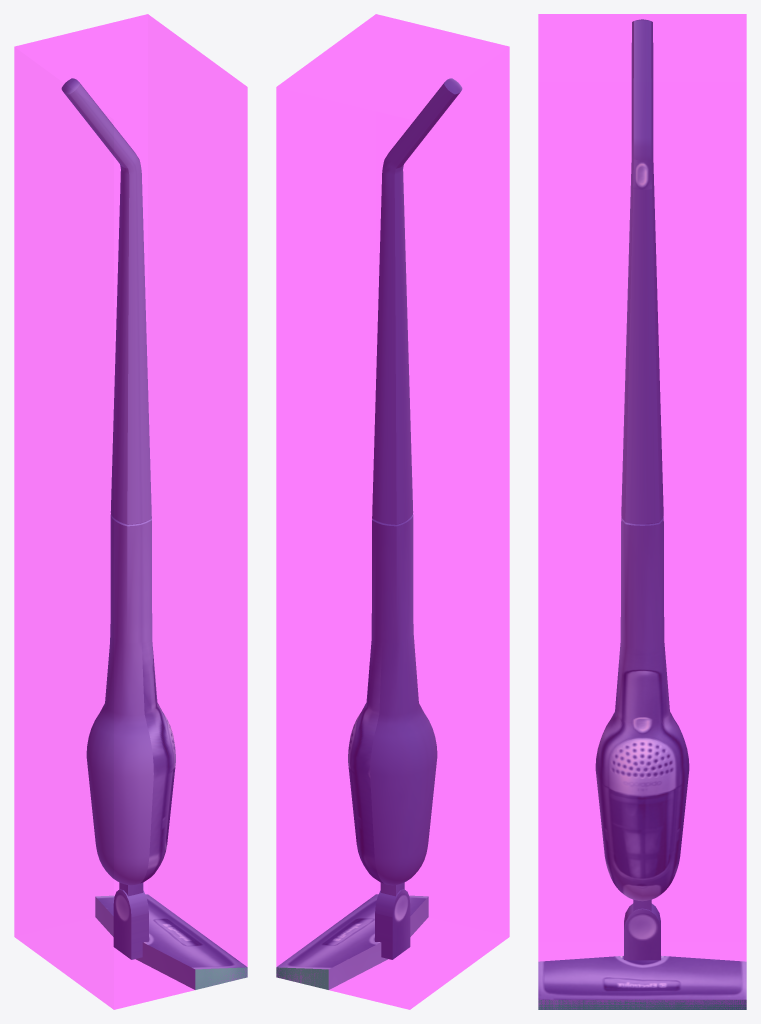
File: cleaner.fbx
The picture shows the model from 3 angles, left to right: view 1: azimuth 30°, elevation 25°; view 2: azimuth 150°, elevation 25°; view 3: azimuth 270°, elevation 25°; orthographic projection. The views are drawn at different scales.
Visible parts, largest first — view 1: boundingbox, vacume_cleaner; view 2: boundingbox, vacume_cleaner; view 3: boundingbox, vacume_cleaner.
Part boxes in pixels (left/top/right/bottom): boundingbox: left=14, top=14, right=247, bottom=1009; vacume_cleaner: left=61, top=78, right=247, bottom=989; boundingbox: left=276, top=14, right=509, bottom=1009; vacume_cleaner: left=276, top=78, right=462, bottom=989; boundingbox: left=538, top=14, right=746, bottom=1008; vacume_cleaner: left=538, top=19, right=746, bottom=1009.
Bounding box in the file's own units: 23.94 × 152 × 30.95.
Materials: 2 (1 with a texture image).
